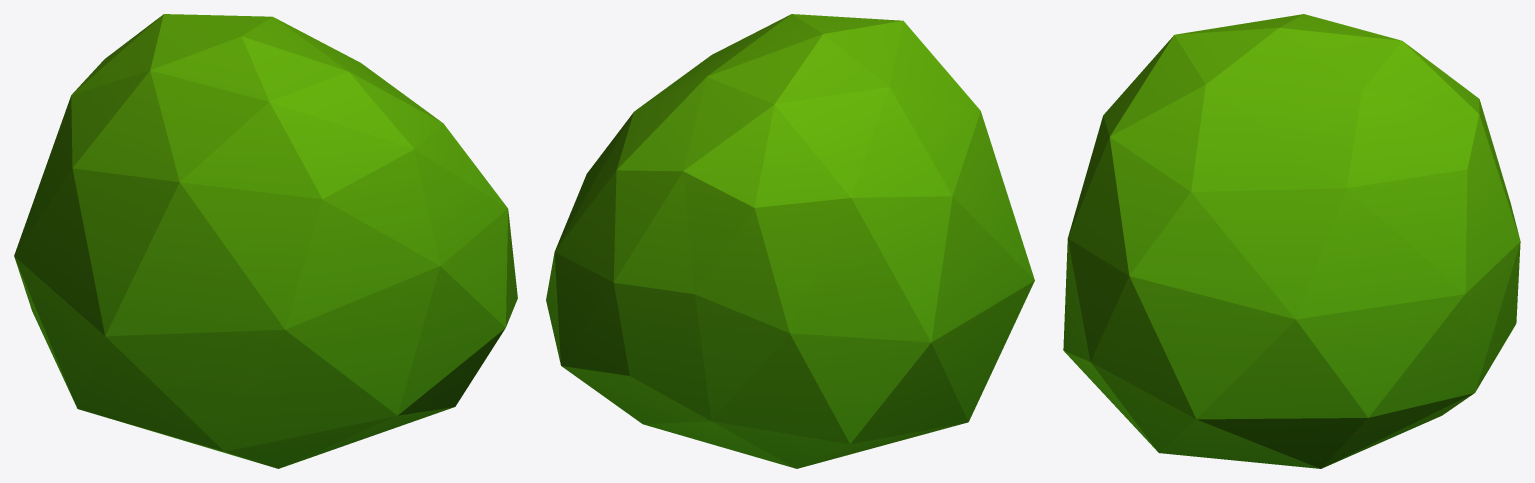
Rendered from bush_2.glb.
3 views of the same model, side by side, from view 1: azimuth 30°, elevation 25°; view 2: azimuth 150°, elevation 25°; view 3: azimuth 270°, elevation 25° (orthographic). The views are drawn at different scales.
Visible parts, largest first — view 1: bush_2; view 2: bush_2; view 3: bush_2.
Boxes of the visible parts, x1,y1,x2,y2 form: bush_2: (14, 14, 517, 468); bush_2: (546, 14, 1034, 468); bush_2: (1063, 14, 1520, 468).
Size of the model in its own units: 0.9903 by 0.9168 by 0.9882.
Materials: 1 (1 with a texture image).
